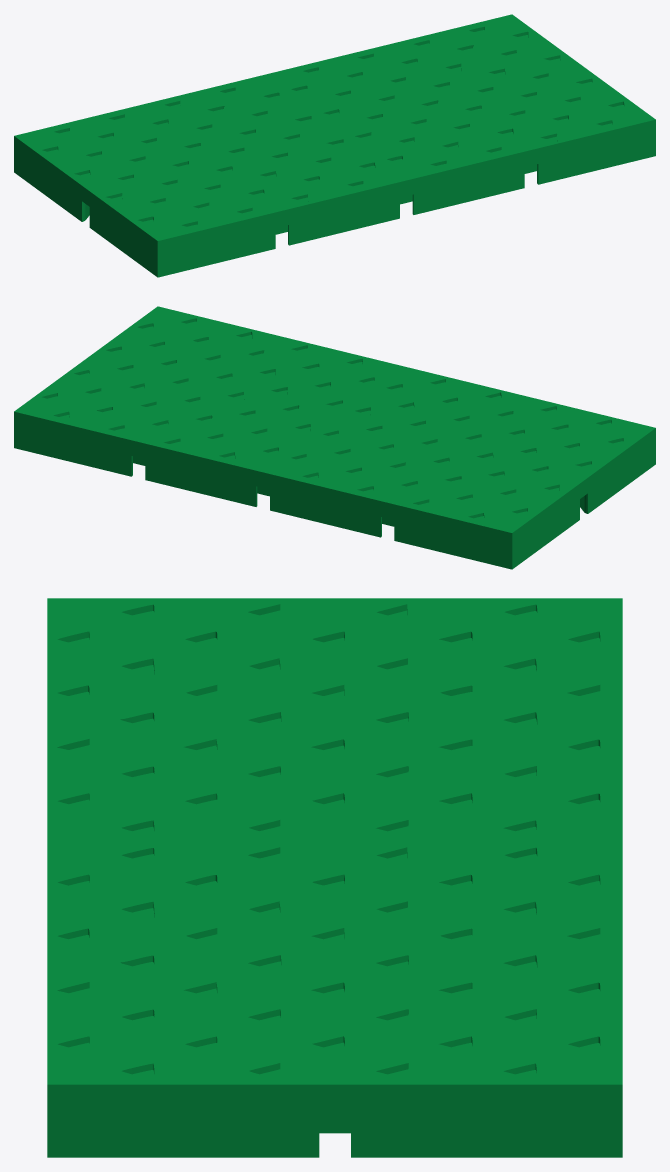
Rendered from 5x10 Grass.obj.
The picture shows the model from 3 angles, top to bottom: view 1: azimuth 30°, elevation 25°; view 2: azimuth 150°, elevation 25°; view 3: azimuth 270°, elevation 25°; orthographic projection. The views are drawn at different scales.
Parts seen in each view (by area): view 1: Körper1; view 2: Körper1; view 3: Körper1.
Boxes of the visible parts, x1=… form: Körper1: x1=14, y1=14, x2=655, y2=277; Körper1: x1=14, y1=306, x2=655, y2=569; Körper1: x1=47, y1=598, x2=622, y2=1157.
Size of the model in its own units: 100 by 7 by 50.
